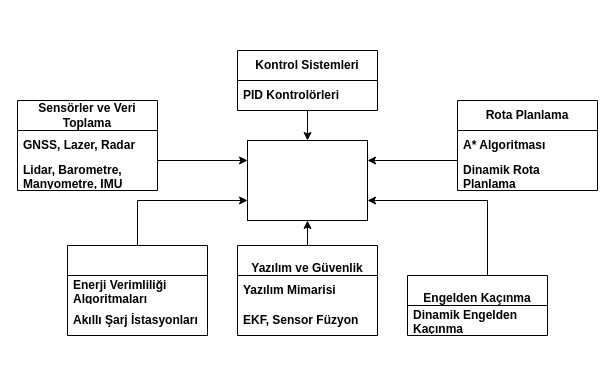
The diagram is 615 pixels wide and 377 high, and some of its shapes have lost their labels. Here are the shapes that lost their labels. From the top down, the box of each, then its label:
(246, 140, 368, 220): OTONOM UÇUŞ SİSTEMİ
(66, 244, 208, 336): Batarya-Yakıt Yönetimi
